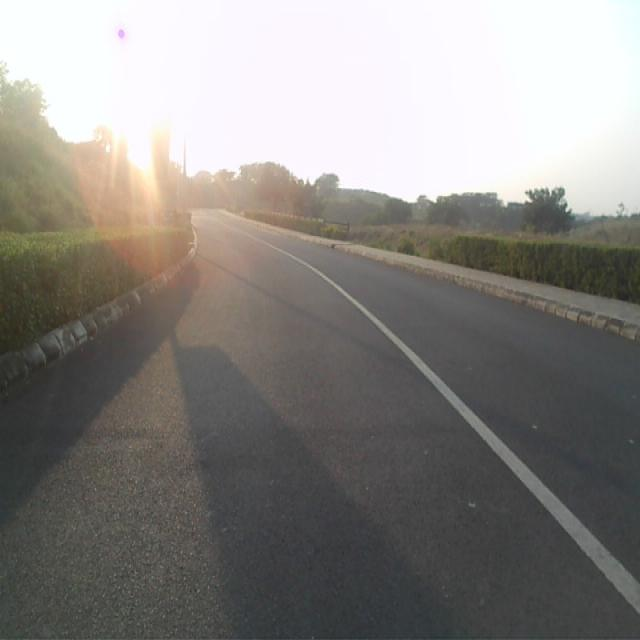lane: (0, 219, 640, 640)
